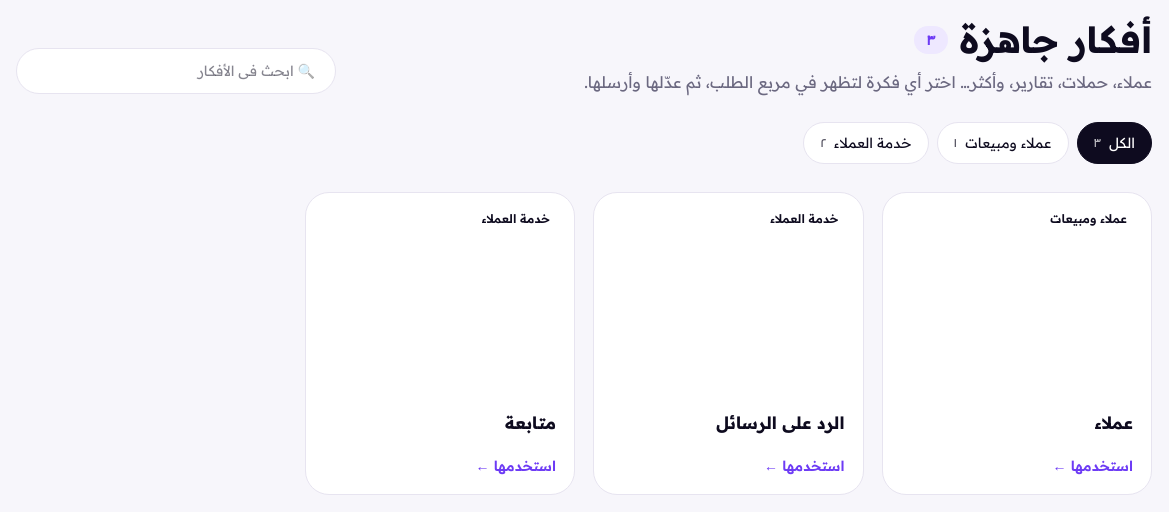
Test: counts, filters and searches the task templates
Check: the text "الرد على الرسائل" is shown, box [716,412,844,433]
Click the button "خدمة العملاء ٢".
click(866, 143)  # box [804,122,929,164]
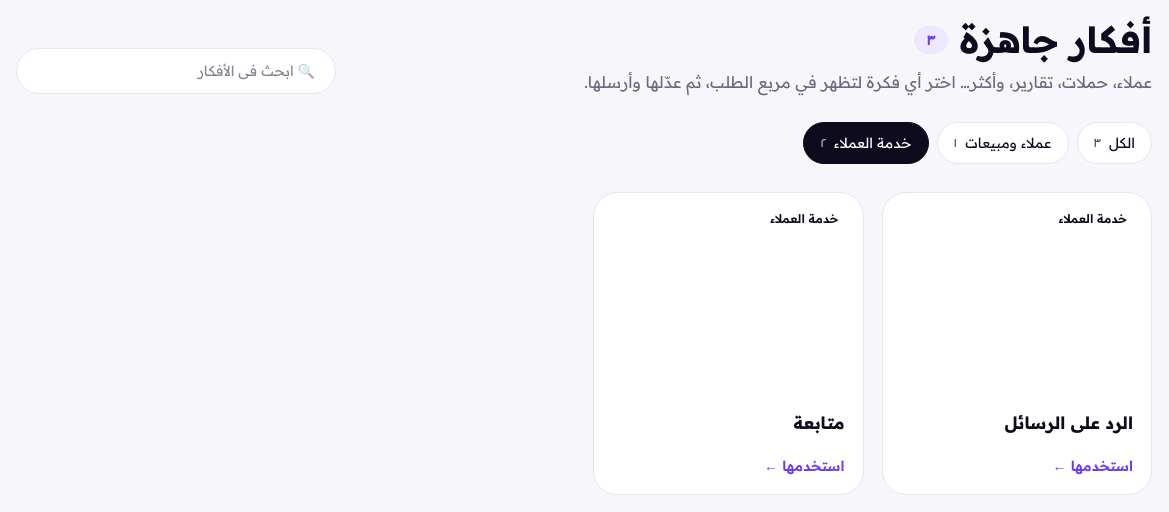
Type "متابعة" into the search field labelled "ابحث في الأفكار".
click(176, 71); type("متابعة")  # box [16,48,336,94]
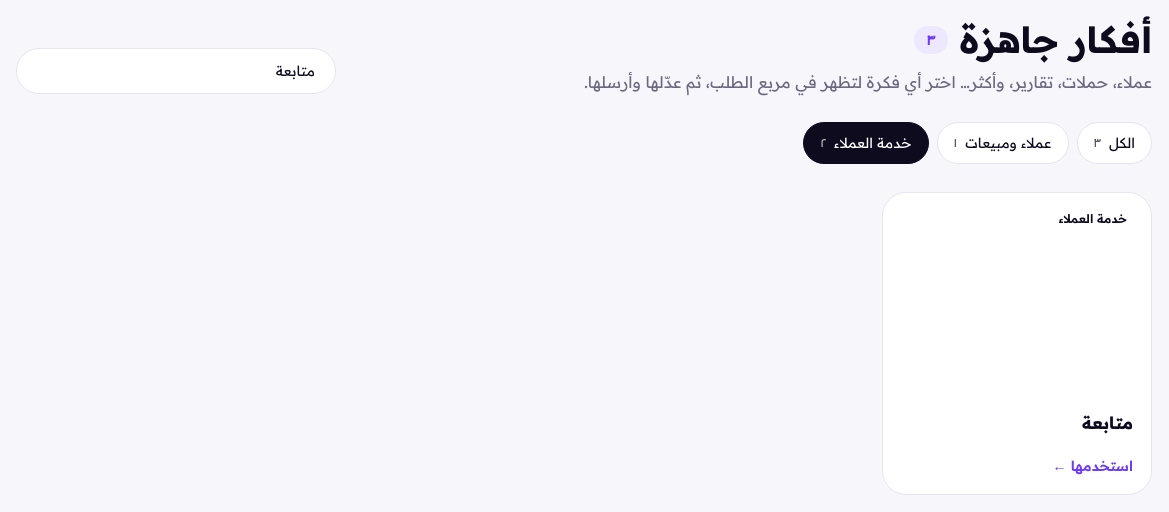
Check: the text "الرد على الرسائل" is gone
